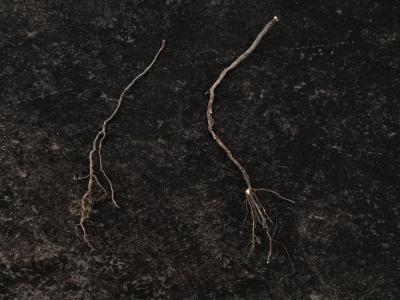Root: (205, 17, 295, 263), (75, 40, 165, 246)
